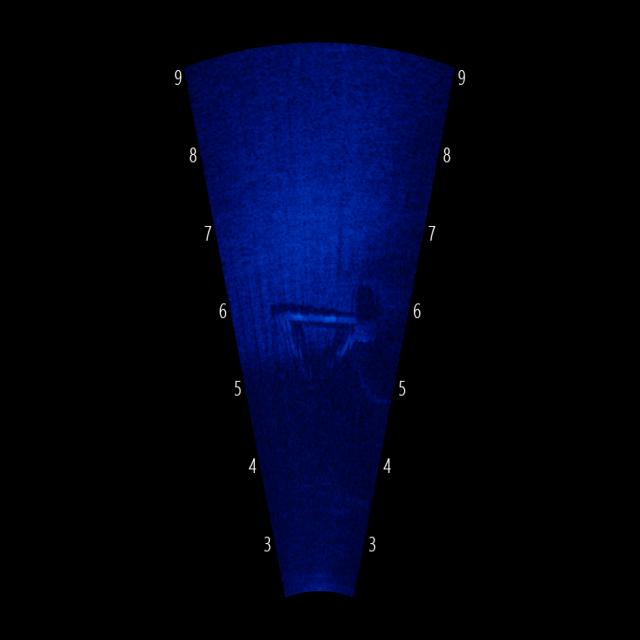triangle: (256, 288, 376, 394)
